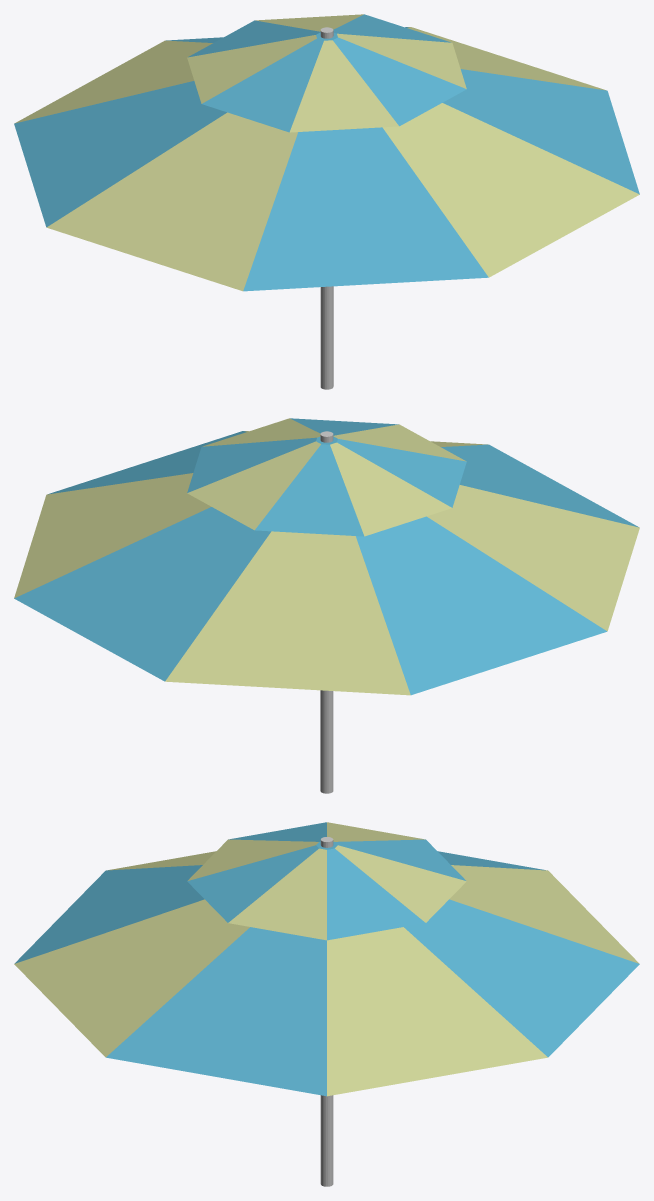
The model's file is Guarda-Sol.fbx.
The picture shows the model from 3 angles, top to bottom: view 1: azimuth 30°, elevation 25°; view 2: azimuth 150°, elevation 25°; view 3: azimuth 270°, elevation 25°; orthographic projection. The views are drawn at different scales.
Parts seen in each view (by area): view 1: Circle, Cylinder; view 2: Circle, Cylinder; view 3: Circle, Cylinder.
Boxes of the visible parts, x1=… form: Circle: x1=14, y1=14, x2=639, y2=291; Cylinder: x1=320, y1=27, x2=333, y2=389; Circle: x1=14, y1=418, x2=639, y2=695; Cylinder: x1=320, y1=431, x2=333, y2=793; Circle: x1=14, y1=822, x2=639, y2=1096; Cylinder: x1=320, y1=837, x2=333, y2=1186.
Bounding box in the file's own units: 680 × 413 × 680.
